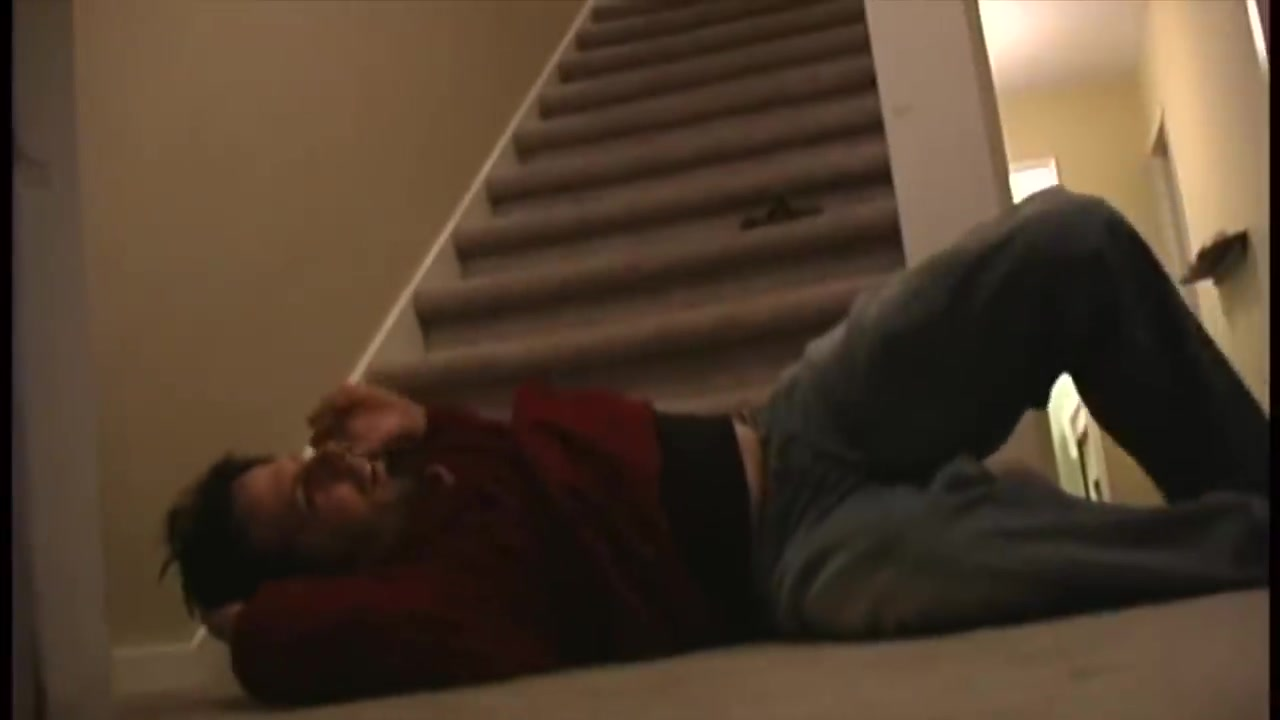falling: (209, 184, 1280, 702)
